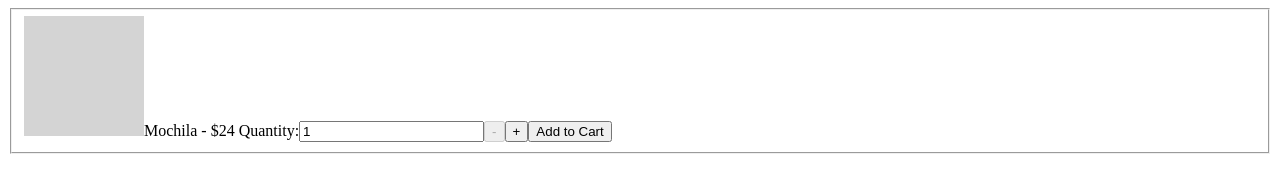
Test case: ProductShop › + sube el número en pantalla
Click the button "+": coordinates (516, 131) top-left (504, 121), bottom-right (528, 142)
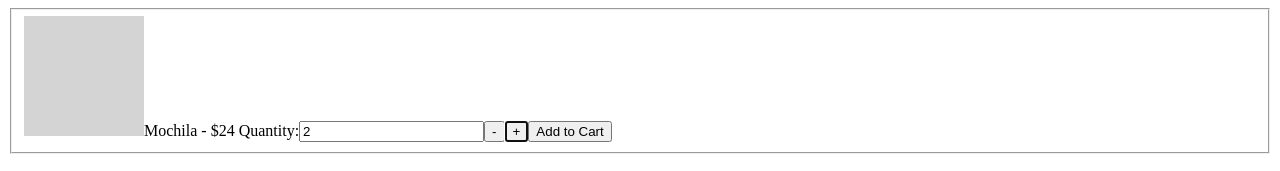
Expected: the number field holds "2", top-left (299, 121), bottom-right (484, 142)
